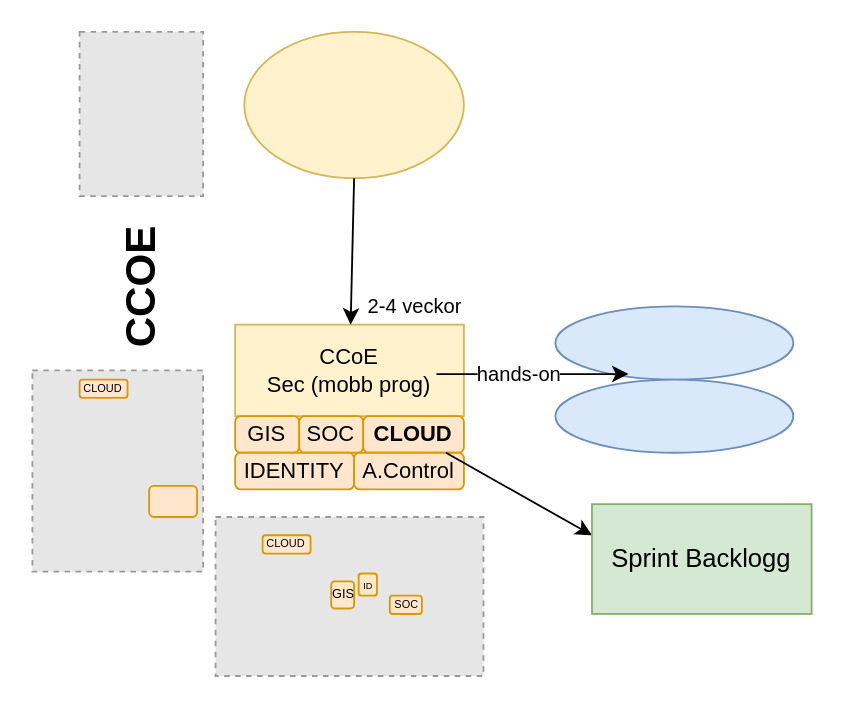
The diagram is 844 pixels wide and 708 high, and some of its shapes have lost their labels. Grey dashed boxes stand in for pictures. The shapes that lost their labels are listed below. From the top down, each one's centre as x and y in pixels, then its label:
At pixel 353 104: "CCoE (Stor)".
At pixel 673 342: "Azure".
At pixel 673 415: "on-prem system".
At pixel 172 500: "CCoE (SEC)".
